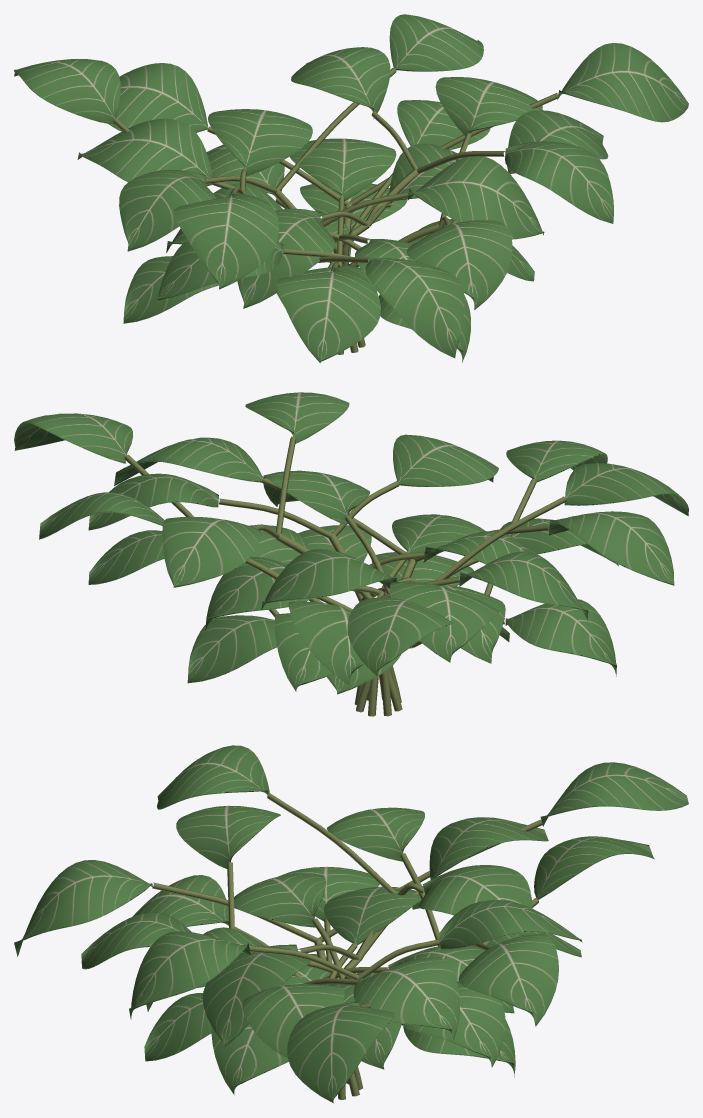
Rendered from fittonia-stage-4.glb.
3 views of the same model, one above another, from view 1: azimuth 30°, elevation 25°; view 2: azimuth 150°, elevation 25°; view 3: azimuth 270°, elevation 25° (orthographic). The views are drawn at different scales.
Parts seen in each view (by area): view 1: PlantBranches, Leaf_14, Leaf_26, Leaf_23, Leaf_11, Leaf_28, Leaf_19, Leaf_10, Leaf_21, Leaf_24, Leaf_29, Leaf_22 (+17 smaller); view 2: PlantBranches, Leaf_20, Leaf_17, Leaf_29, Leaf_12, Leaf_6, Leaf_27, Leaf_19, Leaf_10, Leaf_23, Leaf_26, Leaf_24 (+18 smaller); view 3: PlantBranches, Leaf_23, Leaf_25, Leaf_18, Leaf_28, Leaf_21, Leaf_11, Leaf_29, Leaf_26, Leaf_27, Leaf_16, Leaf_20 (+17 smaller).
Part boxes in pixels (box(x1,y1,x2,y2)): PlantBranches: box(113, 68, 559, 354); Leaf_14: box(276, 266, 380, 363); Leaf_26: box(173, 192, 278, 289); Leaf_23: box(557, 43, 688, 122); Leaf_11: box(407, 156, 544, 239); Leaf_28: box(365, 258, 464, 358); Leaf_19: box(407, 220, 512, 309); Leaf_10: box(77, 118, 212, 186); Leaf_21: box(505, 141, 613, 223); Leaf_24: box(119, 170, 216, 251); Leaf_29: box(14, 59, 120, 124); Leaf_22: box(108, 63, 208, 132); PlantBranches: box(124, 436, 566, 716); Leaf_20: box(162, 517, 261, 587); Leaf_17: box(548, 511, 674, 585); Leaf_29: box(347, 597, 452, 676); Leaf_12: box(505, 599, 616, 676); Leaf_6: box(187, 615, 276, 683); Leaf_27: box(261, 549, 396, 610); Leaf_19: box(393, 434, 498, 486); Leaf_10: box(389, 581, 498, 662); Leaf_23: box(14, 413, 132, 463); Leaf_26: box(564, 463, 688, 516); Leaf_24: box(459, 551, 588, 620); PlantBranches: box(152, 793, 542, 1099); Leaf_23: box(287, 1002, 394, 1103); Leaf_25: box(458, 934, 558, 1026); Leaf_18: box(353, 957, 460, 1040); Leaf_28: box(14, 860, 152, 956); Leaf_21: box(129, 931, 250, 1019); Leaf_11: box(202, 944, 310, 1047); Leaf_29: box(540, 762, 688, 826); Leaf_26: box(157, 745, 269, 809); Leaf_27: box(418, 865, 532, 935); Leaf_16: box(242, 984, 344, 1058); Leaf_20: box(438, 900, 582, 949).
Size of the model in its own units: 2 by 0.7438 by 1.9.
Materials: 2 (1 with a texture image).
